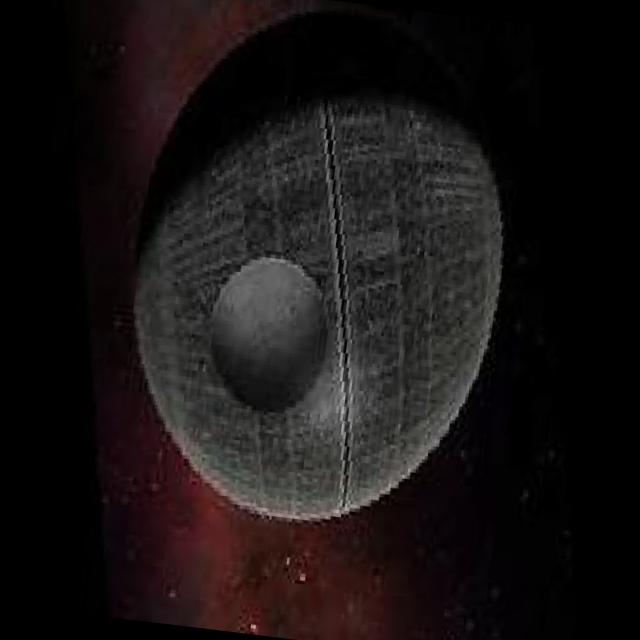Death Star: (102, 53, 529, 550)
